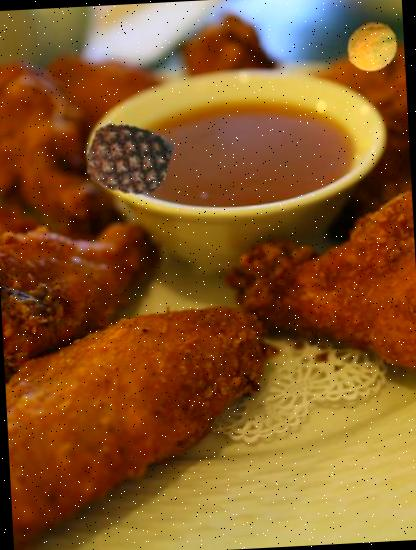Cantaloupe: (345, 19, 400, 74)
Pineapple: (85, 116, 171, 202)
